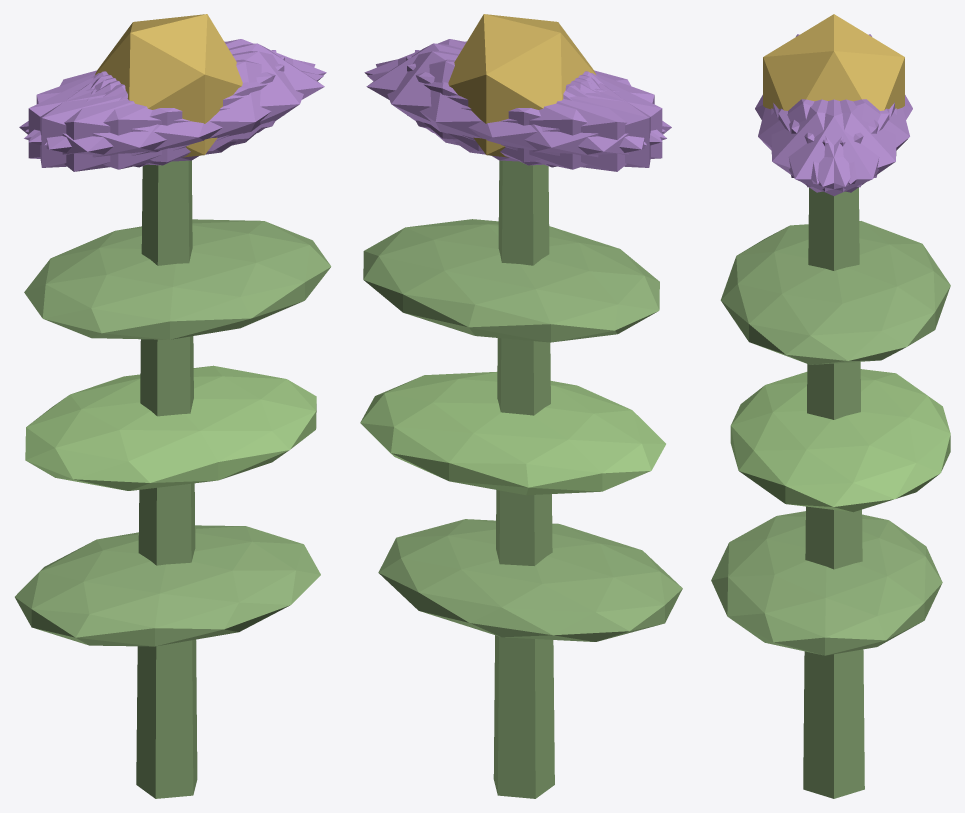
Rendered from euphorbia-pulcherrima.glb.
3 renders of one model, left to right at view 1: azimuth 30°, elevation 25°; view 2: azimuth 150°, elevation 25°; view 3: azimuth 270°, elevation 25°, orthographic.
Parts seen in each view (by area): view 1: leaf2, leaf0, leaf1, stem, center, petal1, petal6, petal2, petal5, petal7, petal0, petal4 (+2 smaller); view 2: leaf2, leaf1, leaf0, stem, center, petal8, petal3, petal7, petal4, petal2, petal0, petal5 (+2 smaller); view 3: leaf2, leaf1, leaf0, stem, center, petal0, petal5, petal4, petal8, petal1.
Part boxes in pixels (x1,y1,x2,y2): leaf2: (24,219,331,339); leaf0: (15,525,320,646); leaf1: (25,365,316,490); stem: (136,160,197,798); center: (95,14,242,157); petal1: (24,59,323,169); petal6: (19,73,236,171); petal2: (40,50,276,167); petal5: (44,51,315,162); petal7: (28,56,284,165); petal0: (94,43,324,151); petal4: (25,39,326,142); leaf2: (363,219,659,342); leaf1: (360,372,665,495); leaf0: (378,519,682,641); stem: (493,160,554,798); center: (448,14,595,157); petal8: (367,59,666,169); petal3: (455,73,671,171); petal7: (414,50,650,167); petal4: (376,51,646,162); petal2: (406,56,662,165); petal0: (366,43,596,151); petal5: (364,39,665,142); leaf2: (720,221,950,364); leaf1: (730,369,950,512); leaf0: (711,511,942,655); stem: (803,187,864,798); center: (763,14,904,110); petal0: (773,99,894,195); petal5: (771,99,889,192); petal4: (778,99,896,192); petal8: (789,99,909,184); petal1: (758,99,878,184).
Bounding box in the file's own units: 0.1452 × 0.3586 × 0.1035.
